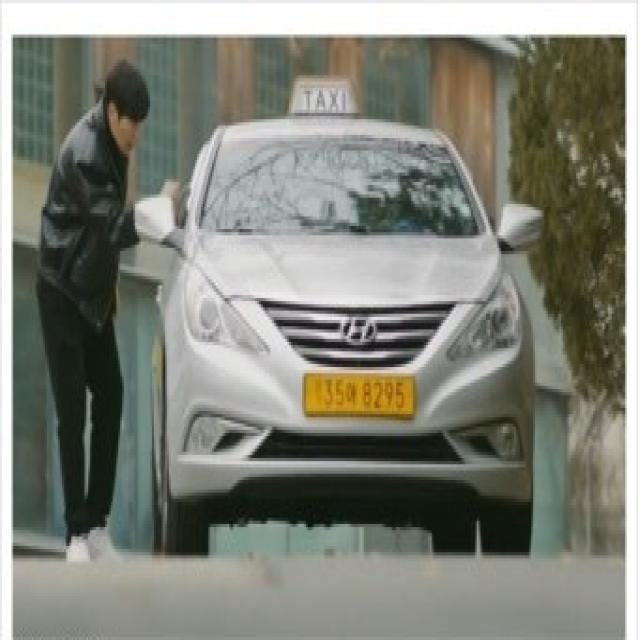car: (295, 361, 433, 437)
